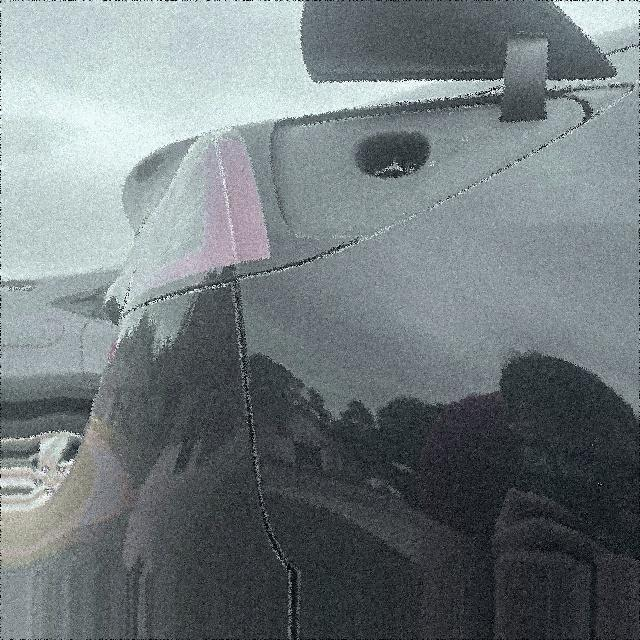Tesla Model-S-: (342, 114, 442, 206)
